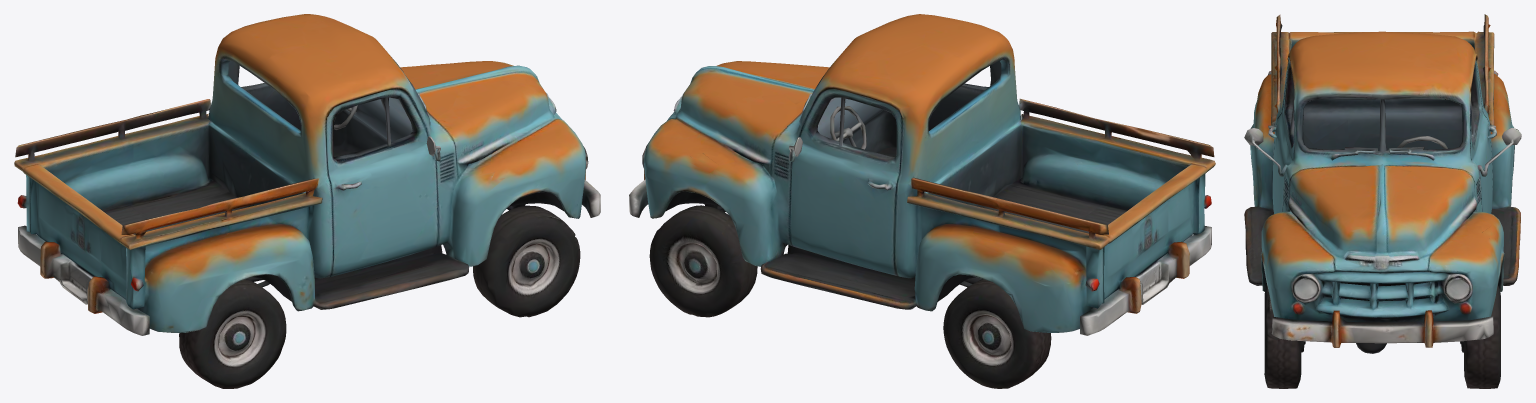
Rendered from pickup.glb.
The picture shows the model from 3 angles, left to right: view 1: azimuth 30°, elevation 25°; view 2: azimuth 150°, elevation 25°; view 3: azimuth 270°, elevation 25°; orthographic projection. The views are drawn at different scales.
Parts seen in each view (by area): view 1: tripo_node_0ac87032-48da-4dd8-a70e-4f8a53c469d6; view 2: tripo_node_0ac87032-48da-4dd8-a70e-4f8a53c469d6; view 3: tripo_node_0ac87032-48da-4dd8-a70e-4f8a53c469d6.
Boxes of the visible parts, box(x1,y1,x2,y2) form: tripo_node_0ac87032-48da-4dd8-a70e-4f8a53c469d6: box(14, 14, 600, 388); tripo_node_0ac87032-48da-4dd8-a70e-4f8a53c469d6: box(629, 14, 1215, 388); tripo_node_0ac87032-48da-4dd8-a70e-4f8a53c469d6: box(1244, 14, 1521, 388).
Bounding box in the file's own units: 3.48 × 1.8 × 1.74.
1 material, 1 textured.
